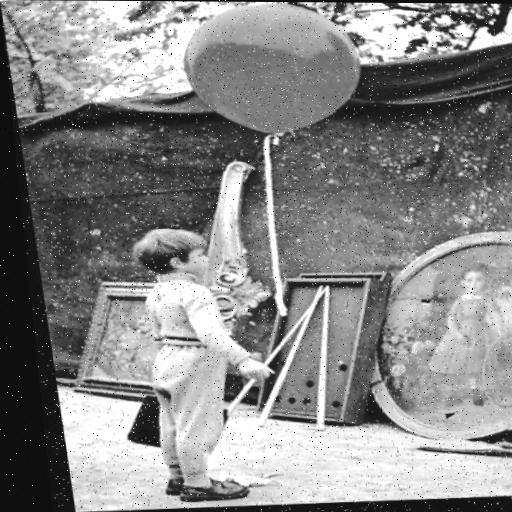balloon: (176, 1, 373, 151)
